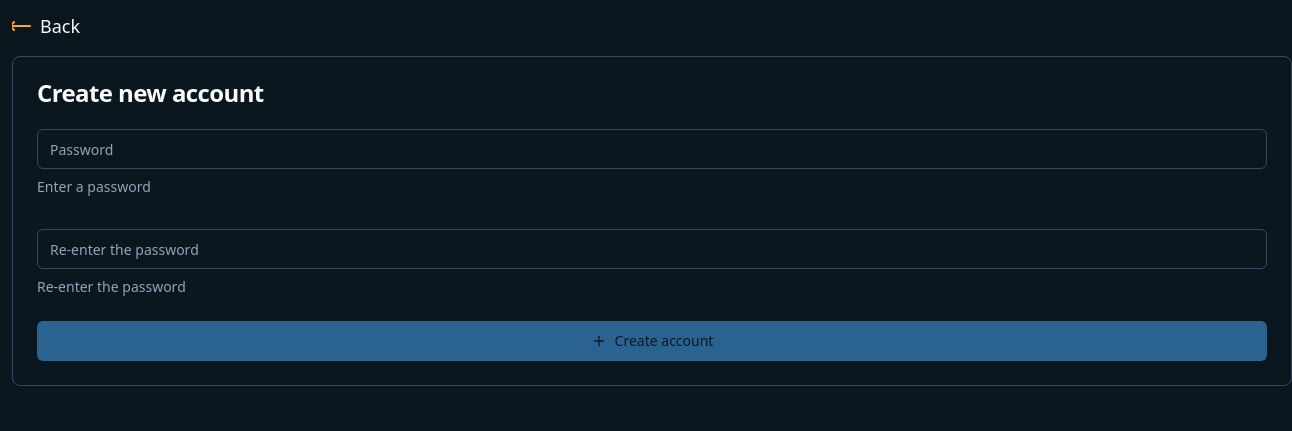
Test: AccountCreationForm › should display the error message if the entered password and re-entered passwords doesn't match
In the password field labelled "Password": (652, 149) [37,129,1267,169], type "test123456"
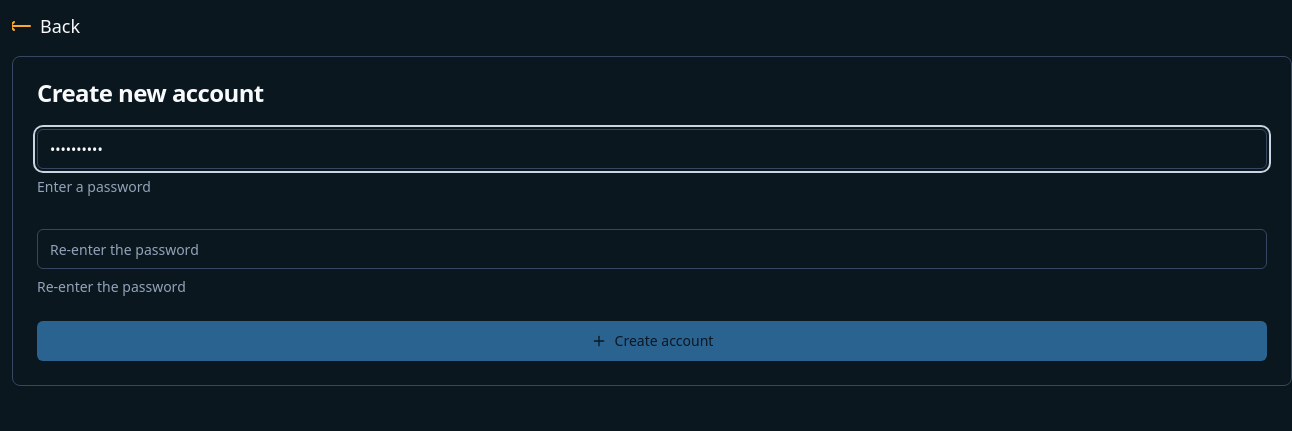
In the password field named "reEnteredPassword": (652, 249) [37,229,1267,269], type "twst123456"
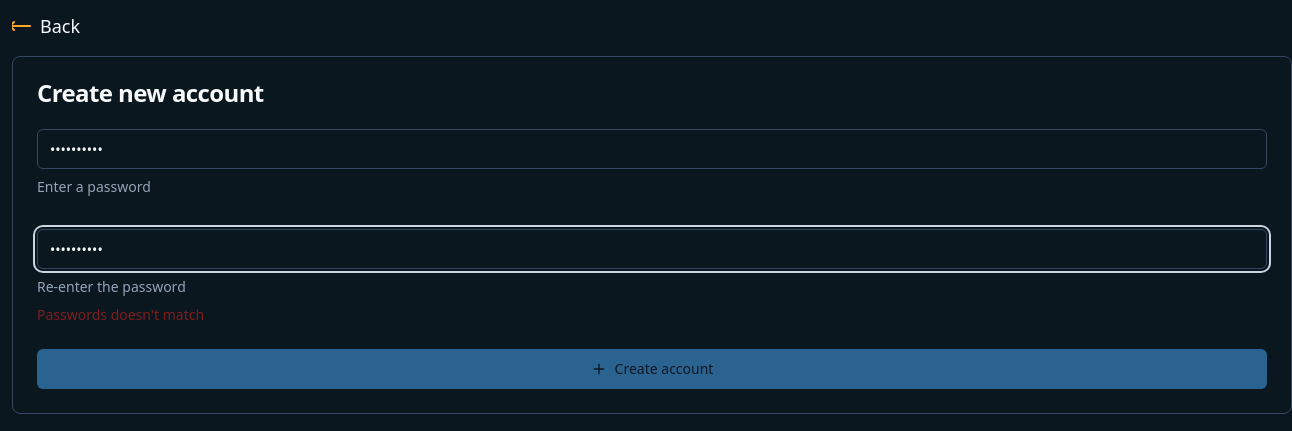
Now the text "Passwords doesn't match" is shown, box [37,305,204,324]
